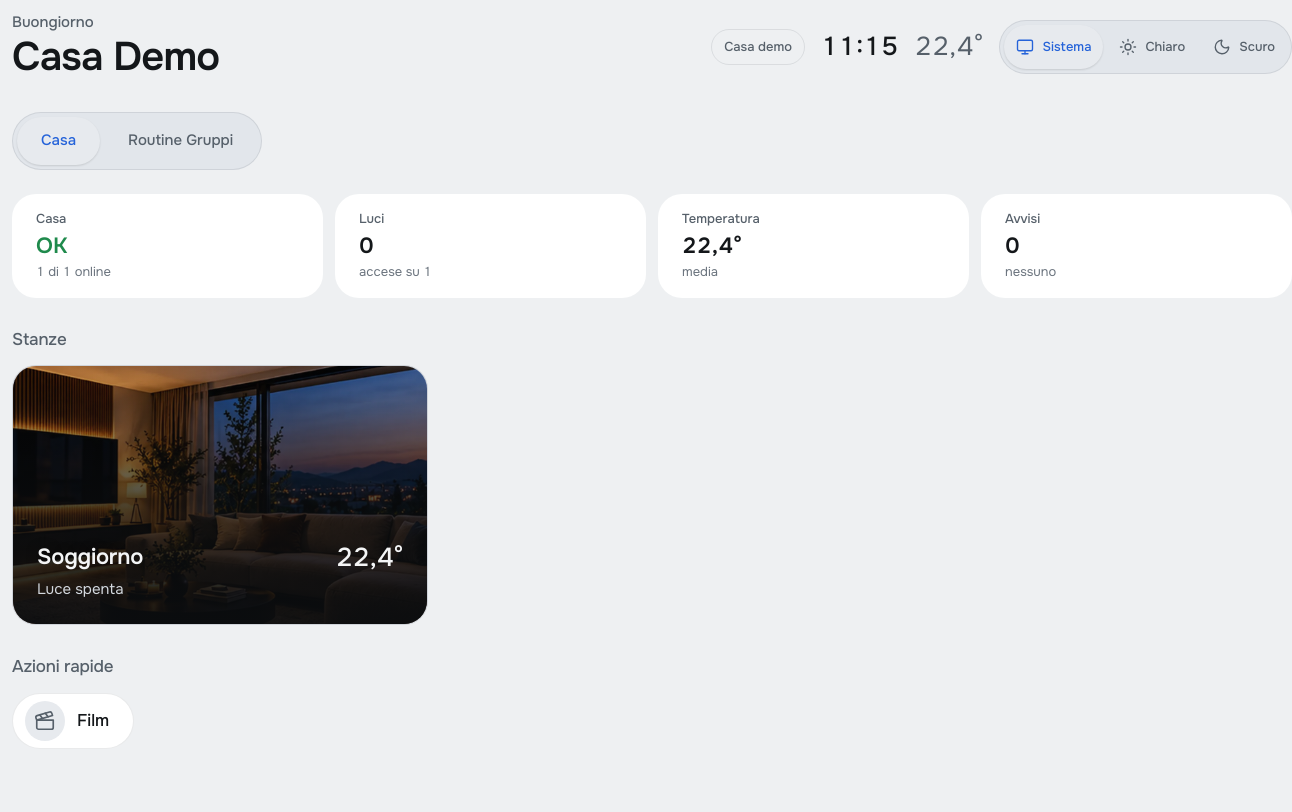
Test: HomePage tabs › switches to Routine Gruppi without reloading and fetches the routines on open
The width and height of the screenshot is (1292, 812).
Check: the heading "Stanze" is shown, box [12, 329, 66, 350]
Click the tab "Routine Gruppi" at (181, 141), box [104, 117, 257, 165]
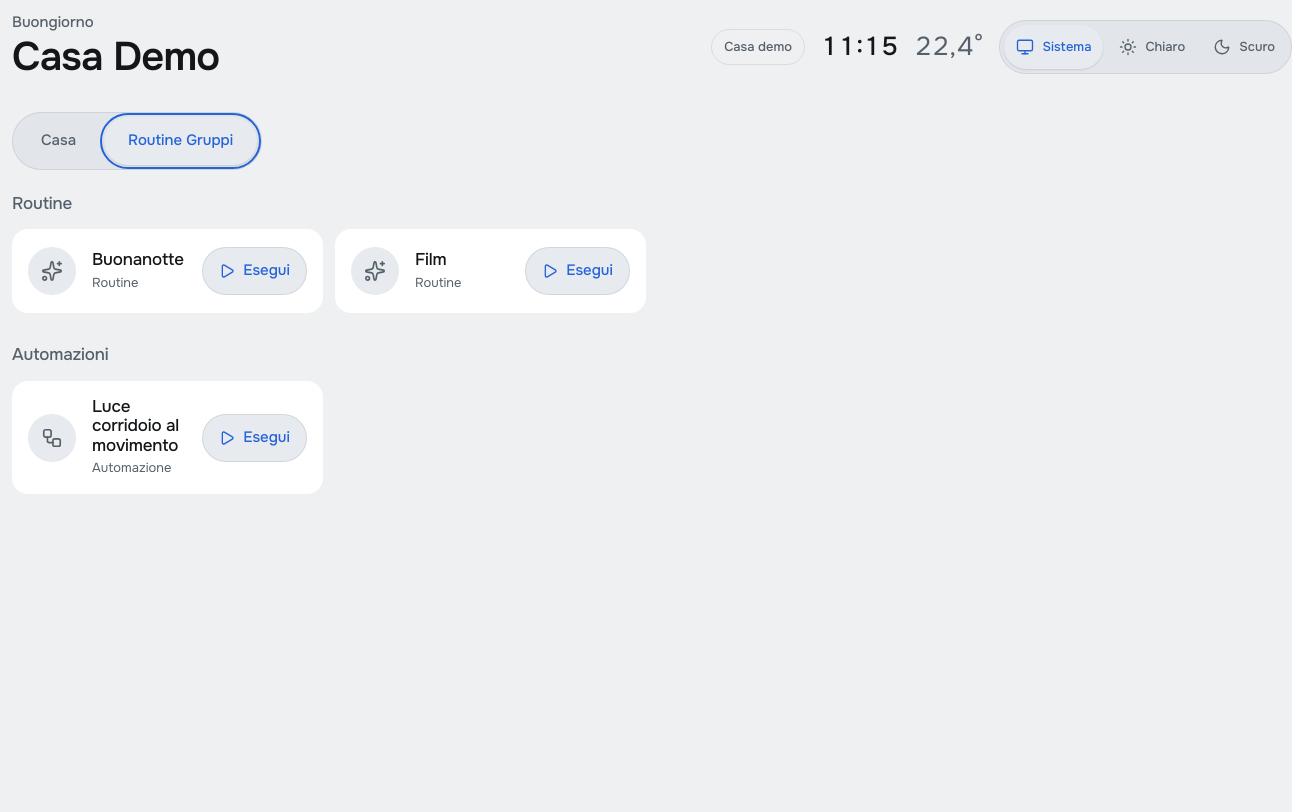
Check: the heading "Routine" is shown, box [12, 193, 72, 214]
Check: the heading "Automazioni" is shown, box [12, 344, 108, 365]
Check: the heading "Stanze" is gone
